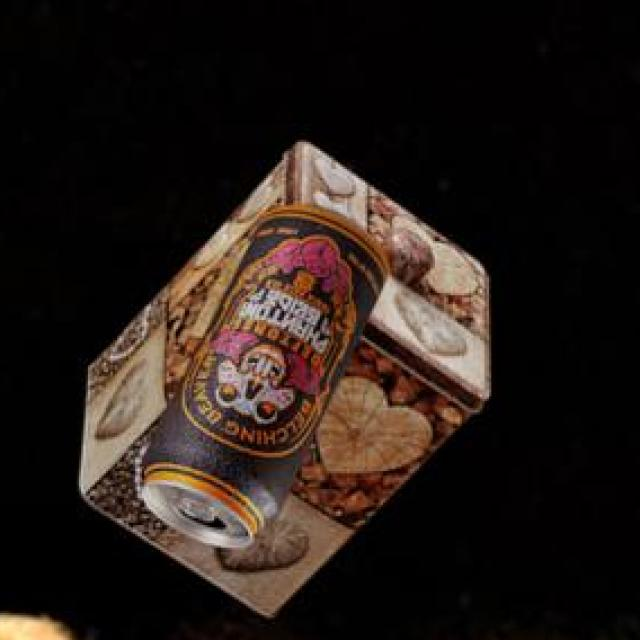logam: (75, 139, 486, 614), (139, 202, 384, 544)
